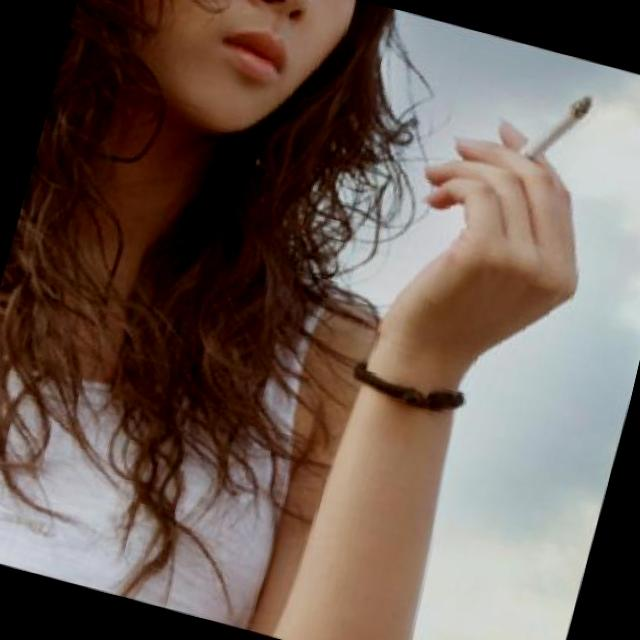cigarette: (510, 79, 594, 175)
